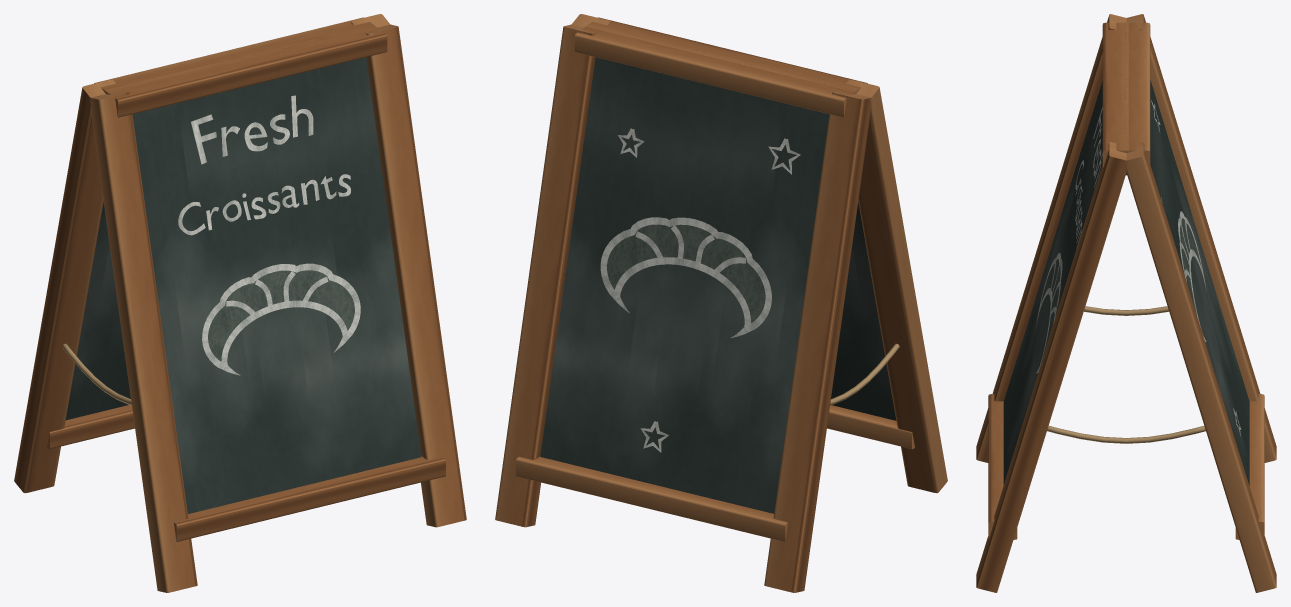
The model's file is chalkboard_sign.glb.
3 views of the same model, side by side, from view 1: azimuth 30°, elevation 25°; view 2: azimuth 150°, elevation 25°; view 3: azimuth 270°, elevation 25° (orthographic). The views are drawn at different scales.
Parts seen in each view (by area): view 1: model; view 2: model; view 3: model.
Part boxes in pixels (x1,y1,x2,y2): model: (14,14,466,592); model: (495,14,947,592); model: (976,14,1276,592).
Size of the model in its own units: 0.5798 by 0.8289 by 0.5165.
Materials: 6 (4 with a texture image).
